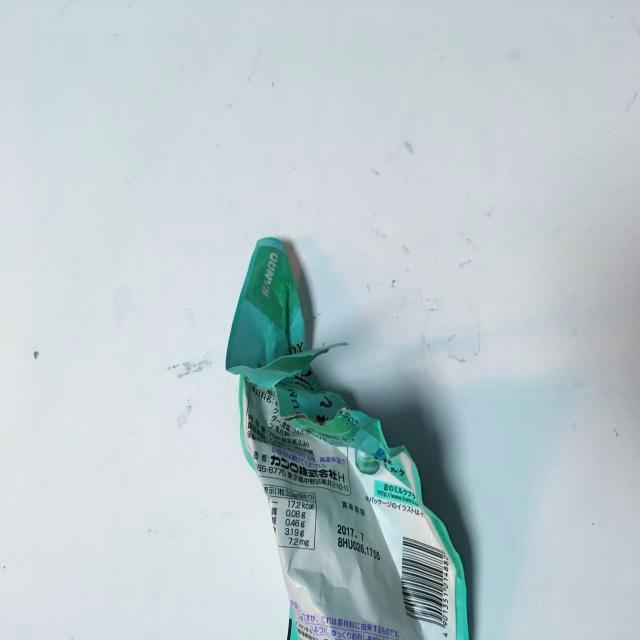plastic: (183, 200, 480, 640)
